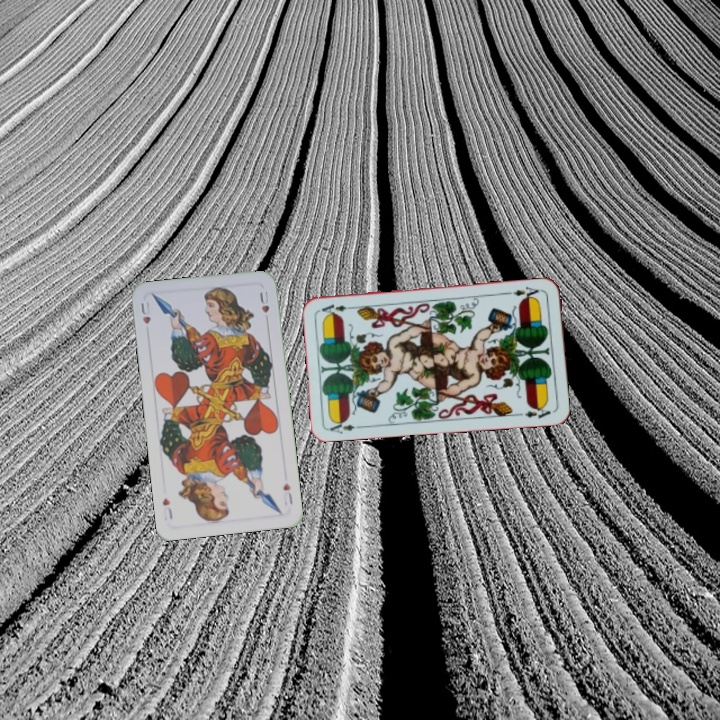EA: (504, 282, 545, 302), (326, 416, 366, 436)
HU: (279, 478, 295, 507), (137, 298, 153, 327)
